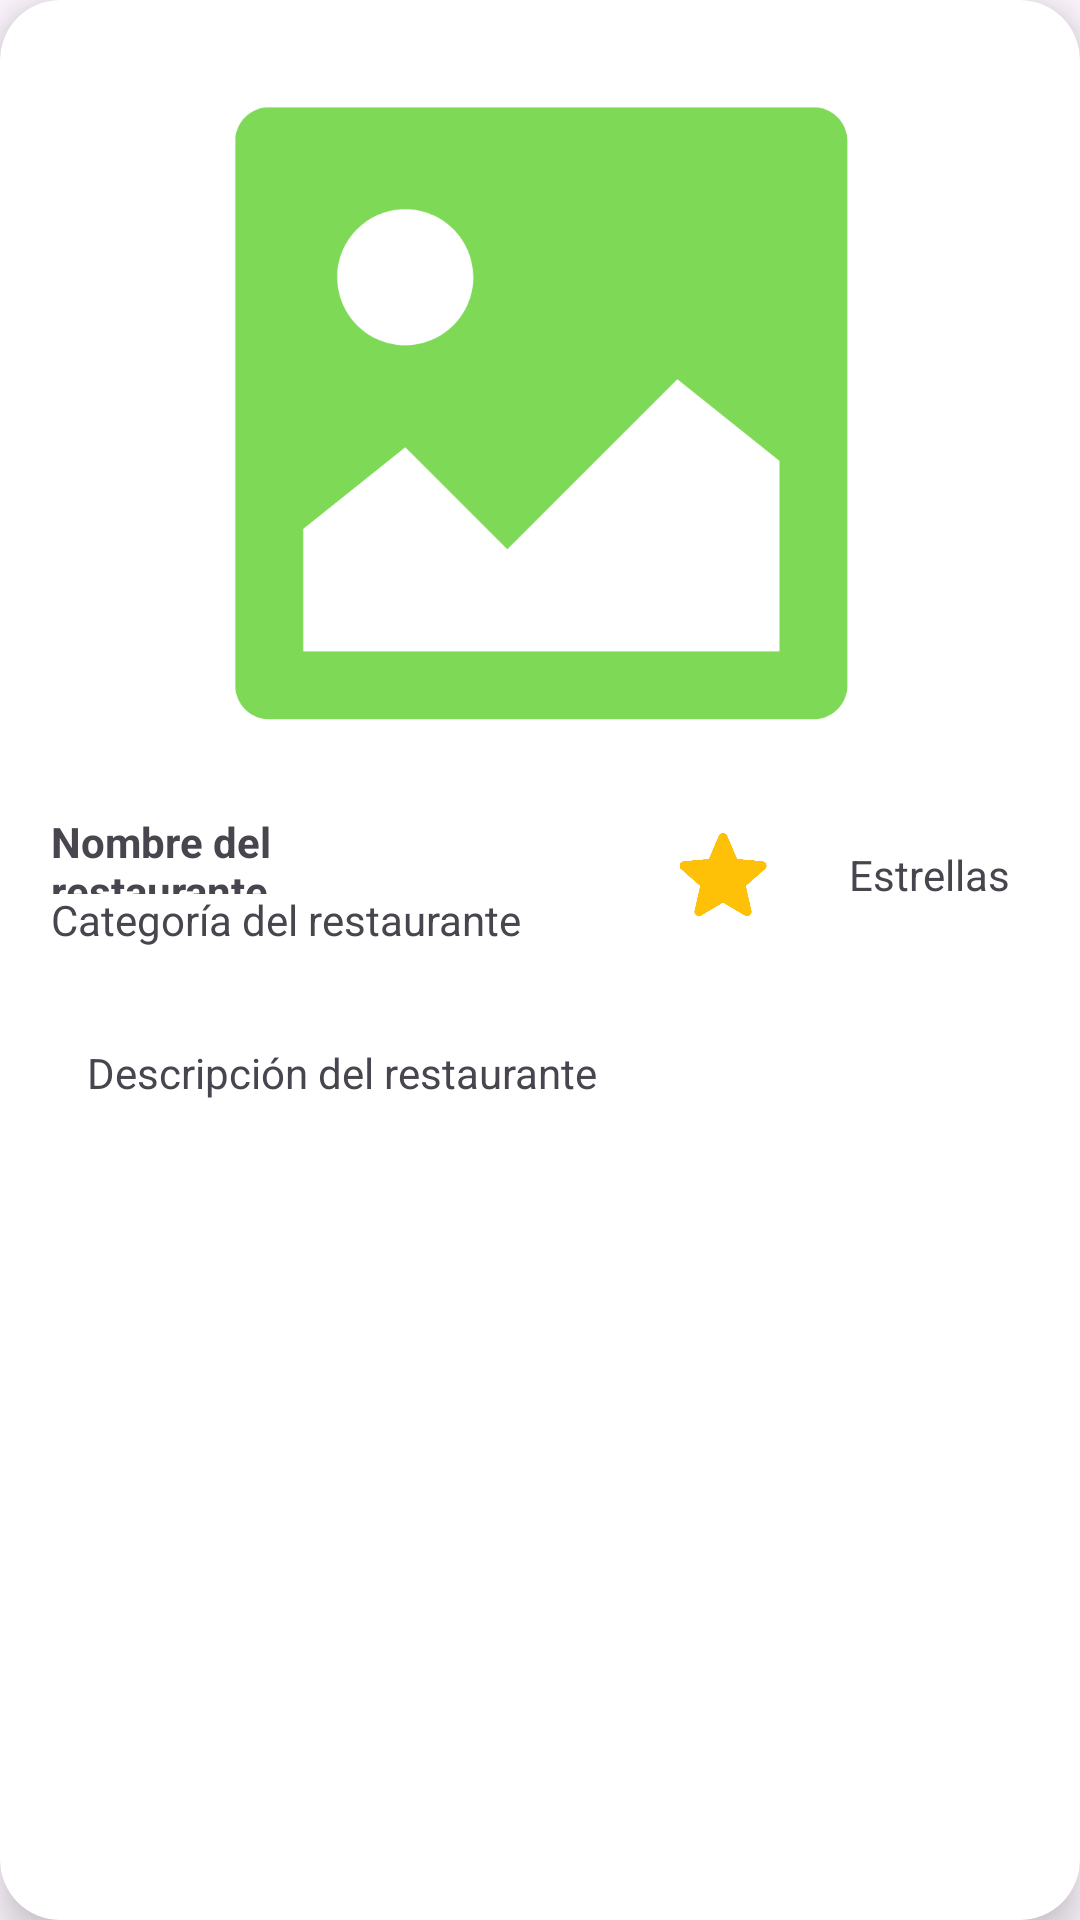

Where icons sit on this 1080 × 1920 app screen, as bbox(x1, y1, x2, y2):
star: bbox(680, 833, 767, 916)
